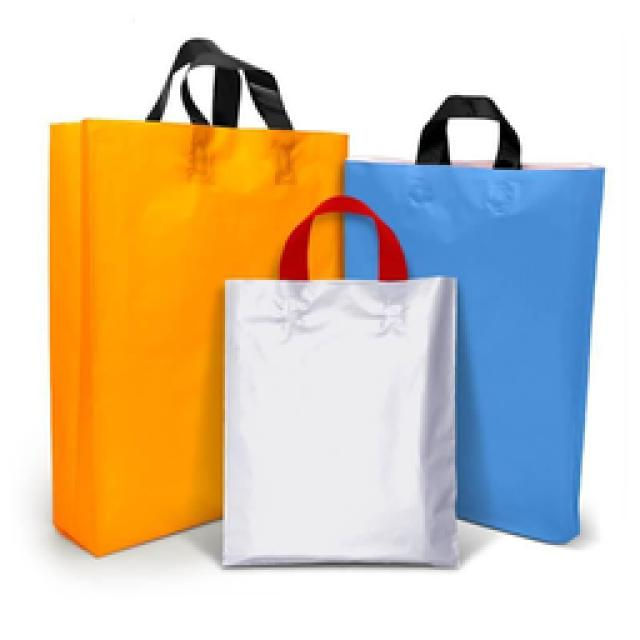plastic: (50, 118, 602, 555), (225, 279, 457, 562)
